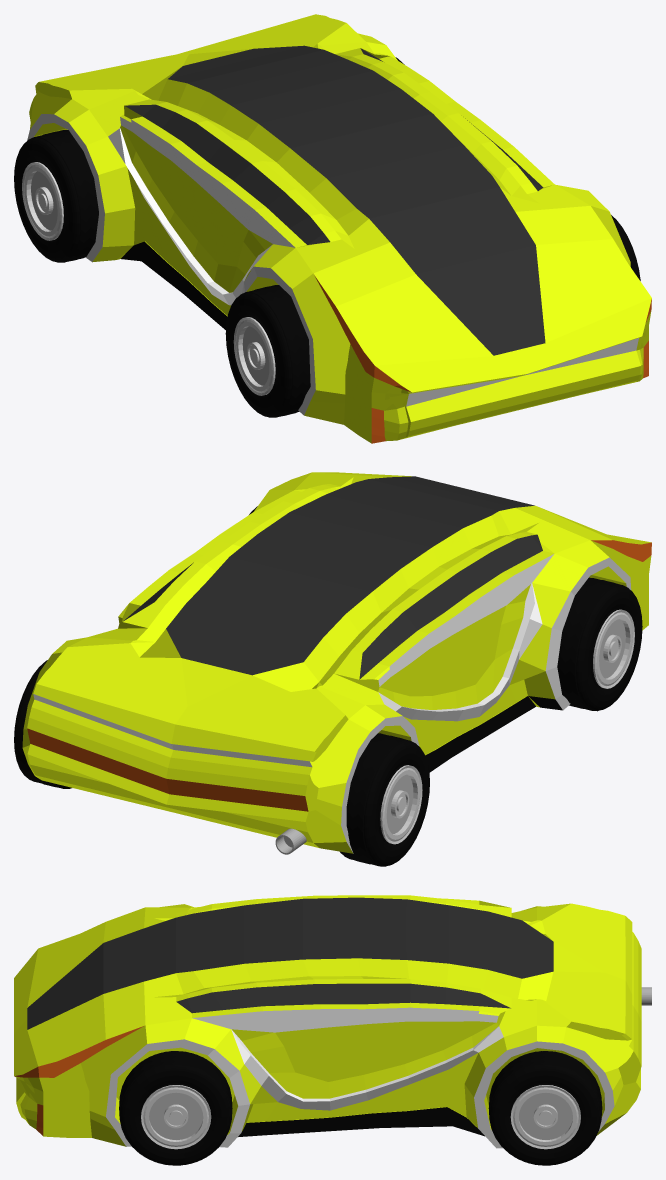
3 renders of one model, top to bottom at view 1: azimuth 30°, elevation 25°; view 2: azimuth 150°, elevation 25°; view 3: azimuth 270°, elevation 25°, orthographic. The views are drawn at different scales.
Parts seen in each view (by area): view 1: BODY41, WHEEL.001, WHEEL.004; view 2: BODY41, WHEEL.004, WHEEL.001, WHEEL.002, SHACMAN; view 3: BODY41, WHEEL.002, WHEEL.003.
Part boxes in pixels (<box>): BODY41: <box>27,14,651,443</box>; WHEEL.001: <box>225,285,310,417</box>; WHEEL.004: <box>14,130,98,262</box>; BODY41: <box>22,472,651,853</box>; WHEEL.004: <box>340,733,429,866</box>; WHEEL.001: <box>557,577,642,711</box>; WHEEL.002: <box>14,660,71,788</box>; SHACMAN: <box>275,828,306,854</box>; BODY41: <box>14,895,641,1148</box>; WHEEL.002: <box>488,1051,602,1165</box>; WHEEL.003: <box>119,1051,232,1165</box>.
Bounding box in the file's own units: 134 × 67.41 × 236.
